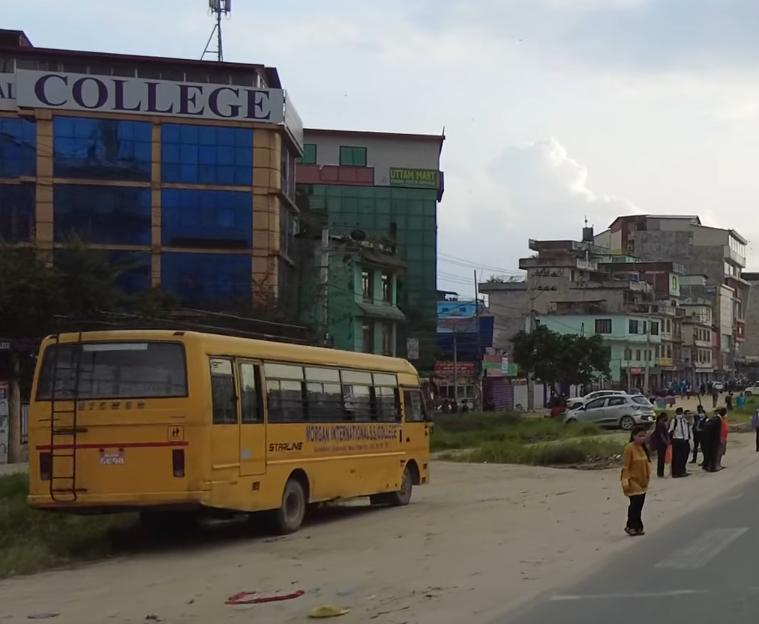car: (565, 391, 655, 433)
school_bus: (25, 310, 438, 539)
